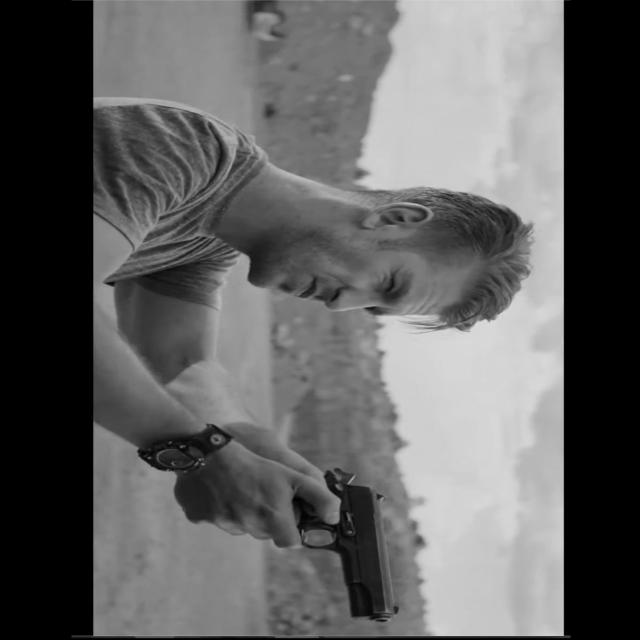weapons: (243, 457, 418, 631)
